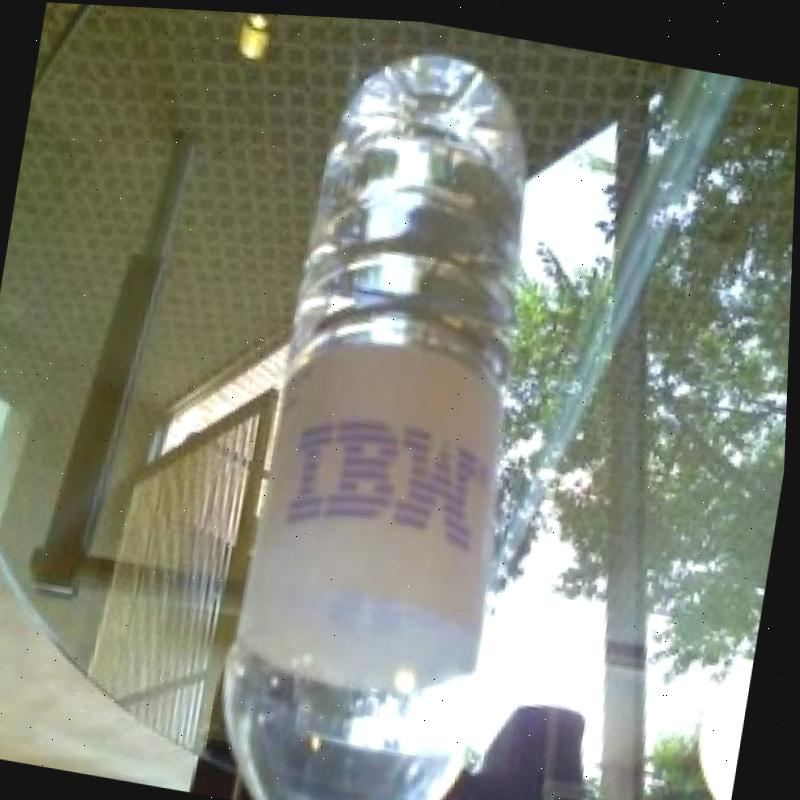botella: (207, 28, 583, 800)
